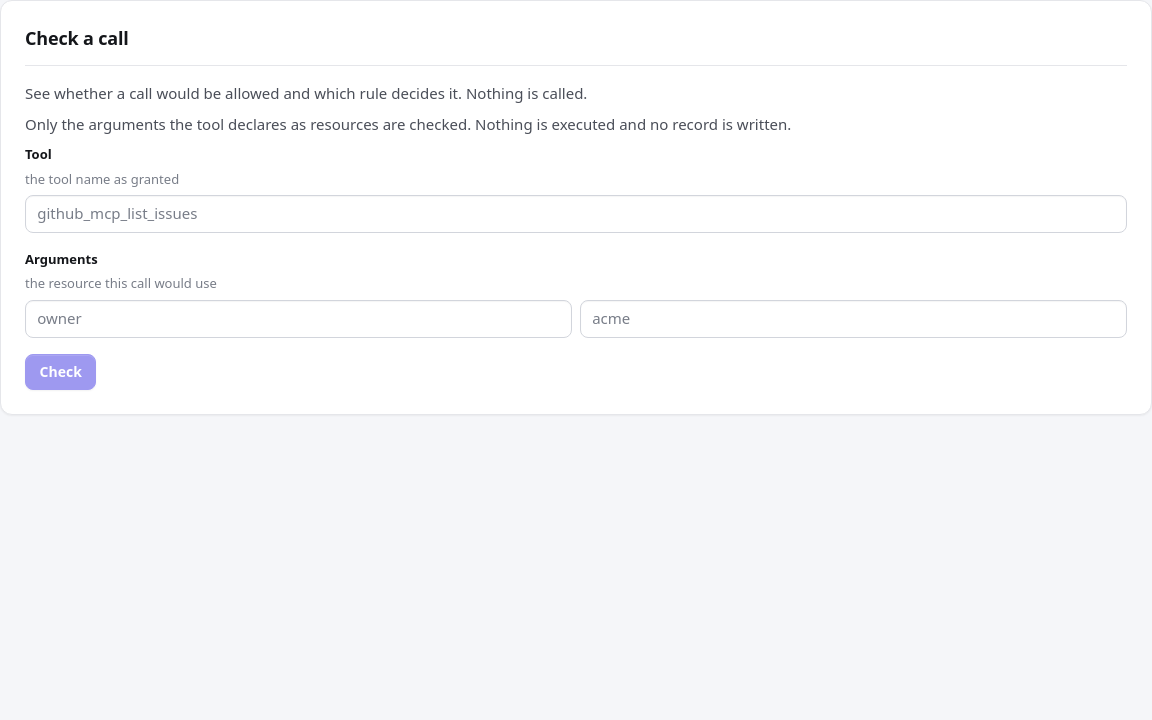
Test: the answer › does not print the deciding reason twice
Type "t" into the field labelled "Tool the tool name as granted" at [576, 214], box [25,195,1127,233]
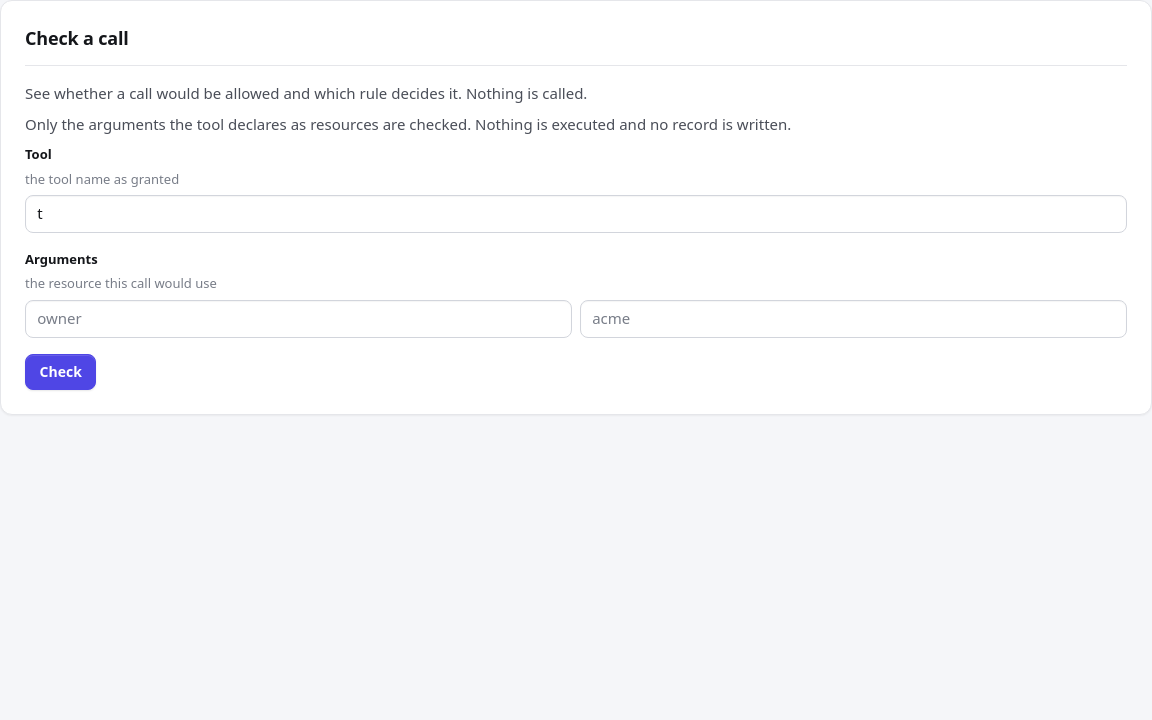
Click the button "Check" at [61, 372], box [25,354,96,390]
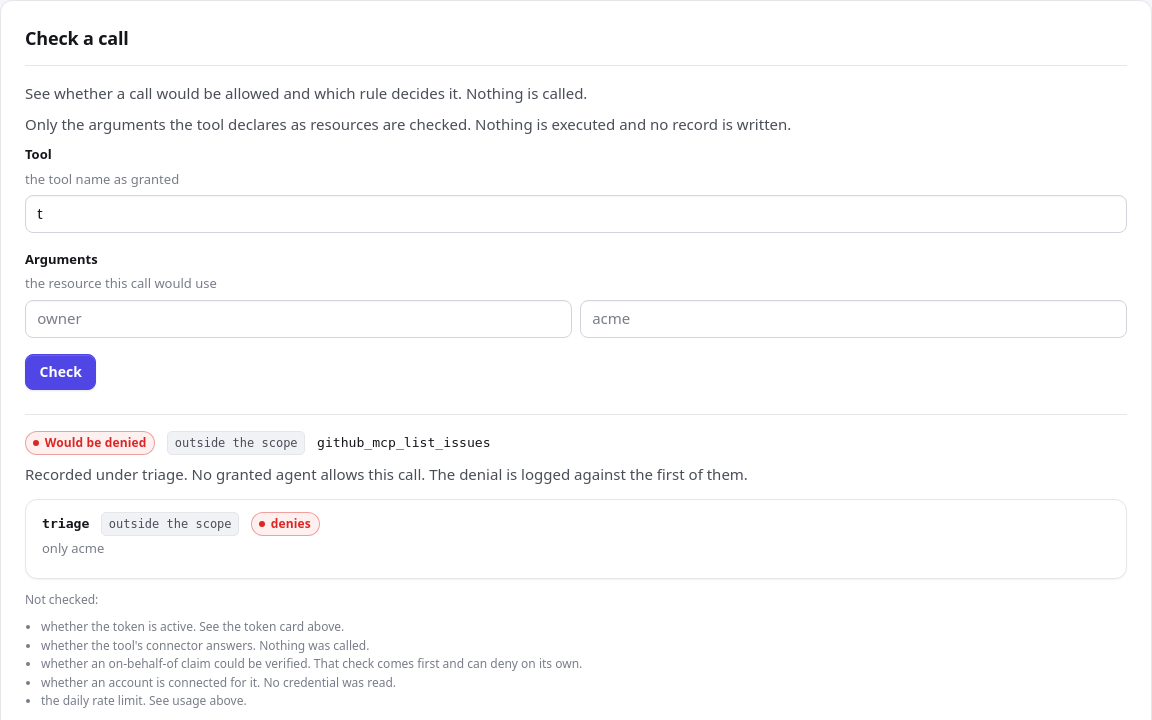
Expected: the text "Would be denied" is shown, [25,431,155,455]
Expected: the text "only acme" is shown once, [42,539,104,557]
